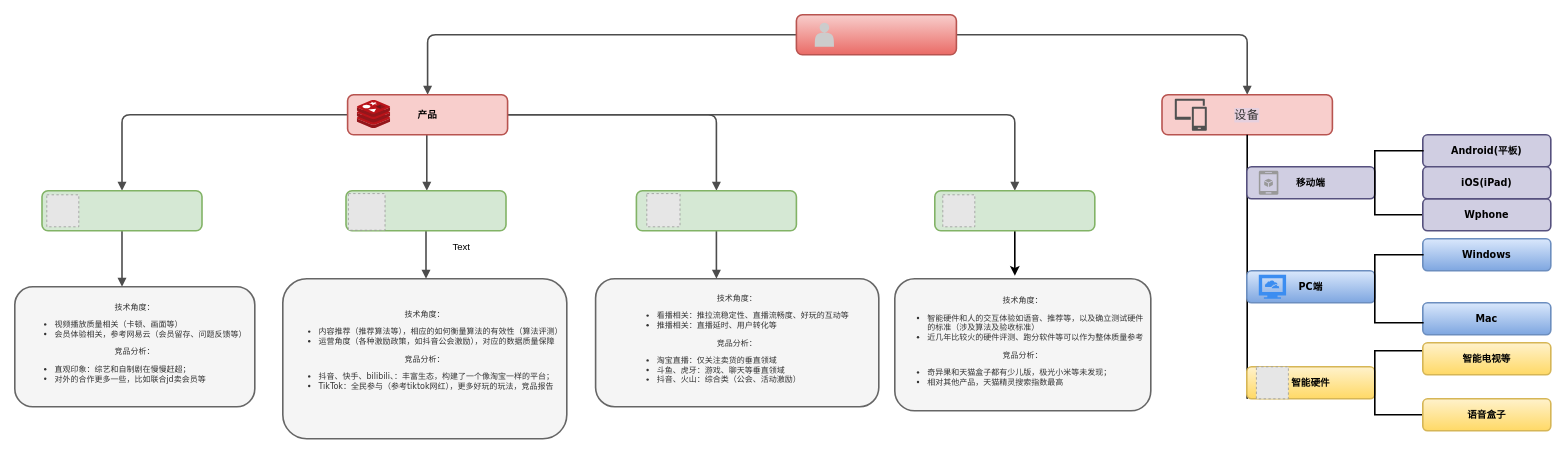
Image size: 1565x453. Some labels were removed from this diagram. Grey dashed boxes stand in for pictures. Here are the shapes that lost their labels. From the top down, the box of each, then its label:
(795, 14, 957, 55): 大文娱
(41, 190, 202, 231): 长视频（优酷）
(345, 190, 506, 231): 短视频（UGC）
(635, 190, 797, 231): 直播（来疯）
(934, 190, 1095, 231): OTT&少儿
